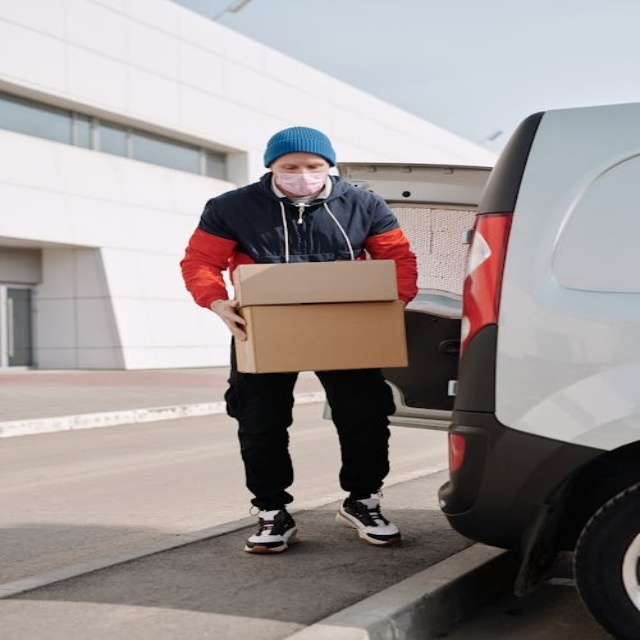Mascara: (273, 168, 329, 196)
Sin_gafas: (274, 159, 329, 172)
Sin_guantes: (204, 294, 251, 342)
